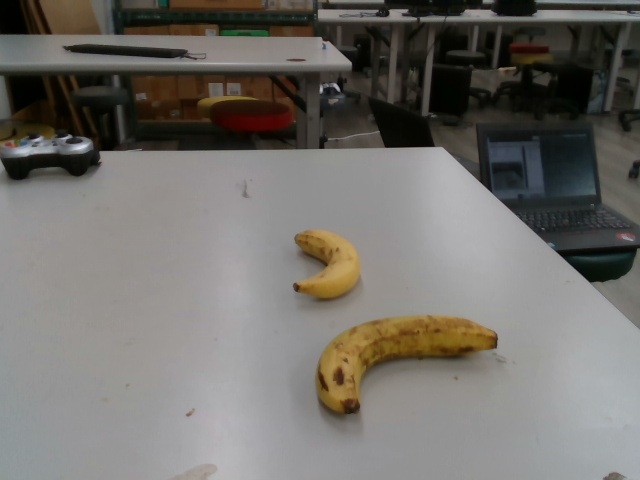banana: (296, 312, 499, 418), (288, 228, 364, 301)
